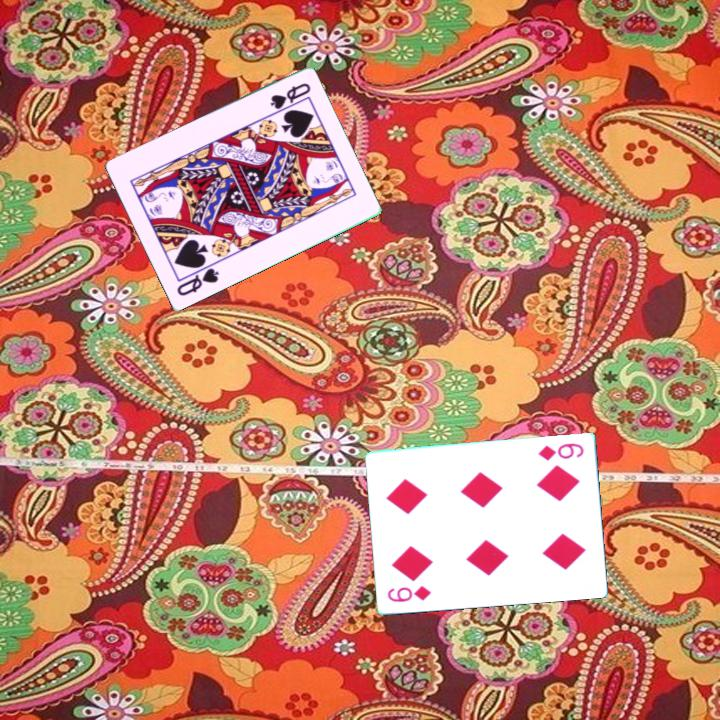6d: (535, 439, 587, 463), (384, 582, 434, 605)
Qs: (173, 260, 222, 299), (266, 80, 313, 113)
